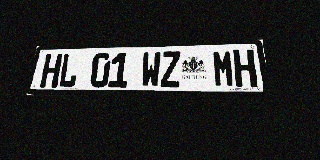0: (89, 53, 111, 87)
1: (108, 52, 129, 87)
H: (233, 49, 257, 87), (39, 54, 63, 88)
L: (57, 53, 80, 88)
M: (212, 50, 235, 87)
W: (141, 52, 161, 87)
Z: (161, 51, 181, 87)
